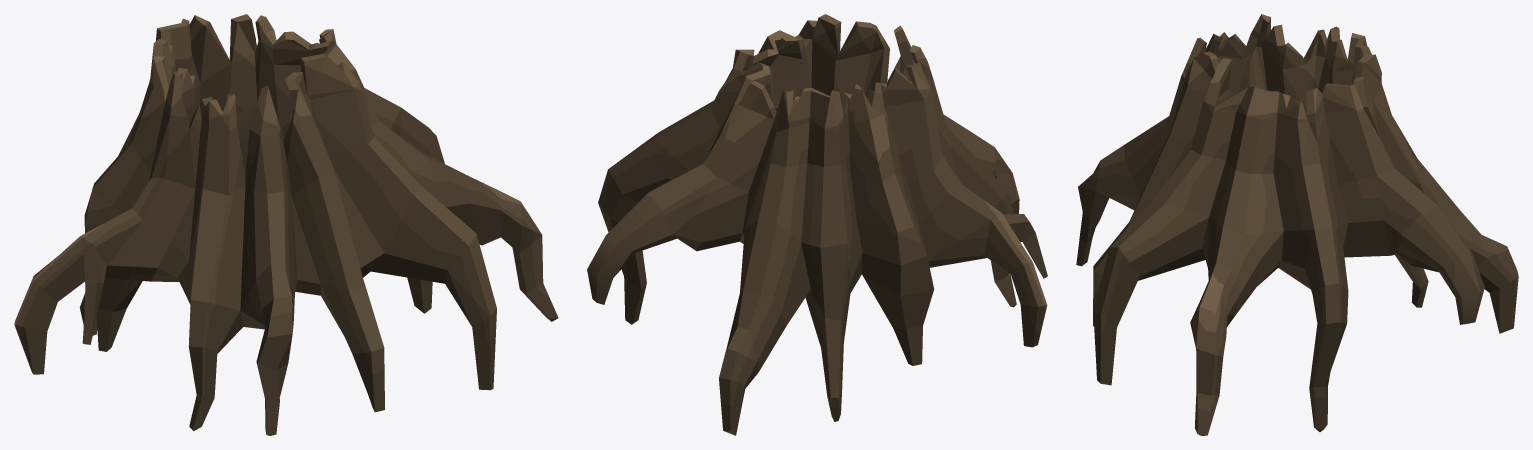
File: SM_Prop_Stump_01.fbx
3 views of the same model, side by side, from view 1: azimuth 30°, elevation 25°; view 2: azimuth 150°, elevation 25°; view 3: azimuth 270°, elevation 25° (orthographic). The views are drawn at different scales.
Visible parts, largest first — view 1: SM_Prop_Stump_01; view 2: SM_Prop_Stump_01; view 3: SM_Prop_Stump_01.
Boxes of the visible parts, x1,y1,x2,y2 form: SM_Prop_Stump_01: (14,14,558,435); SM_Prop_Stump_01: (587,14,1047,435); SM_Prop_Stump_01: (1076,14,1518,435).
Bounding box in the file's own units: 303 × 196 × 262.
Materials: 1 (1 with a texture image).
